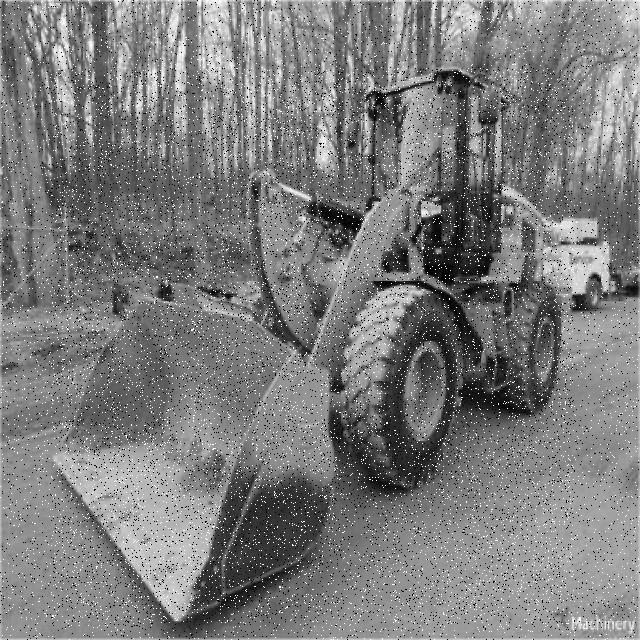Construction Equipment: (51, 68, 573, 624)
